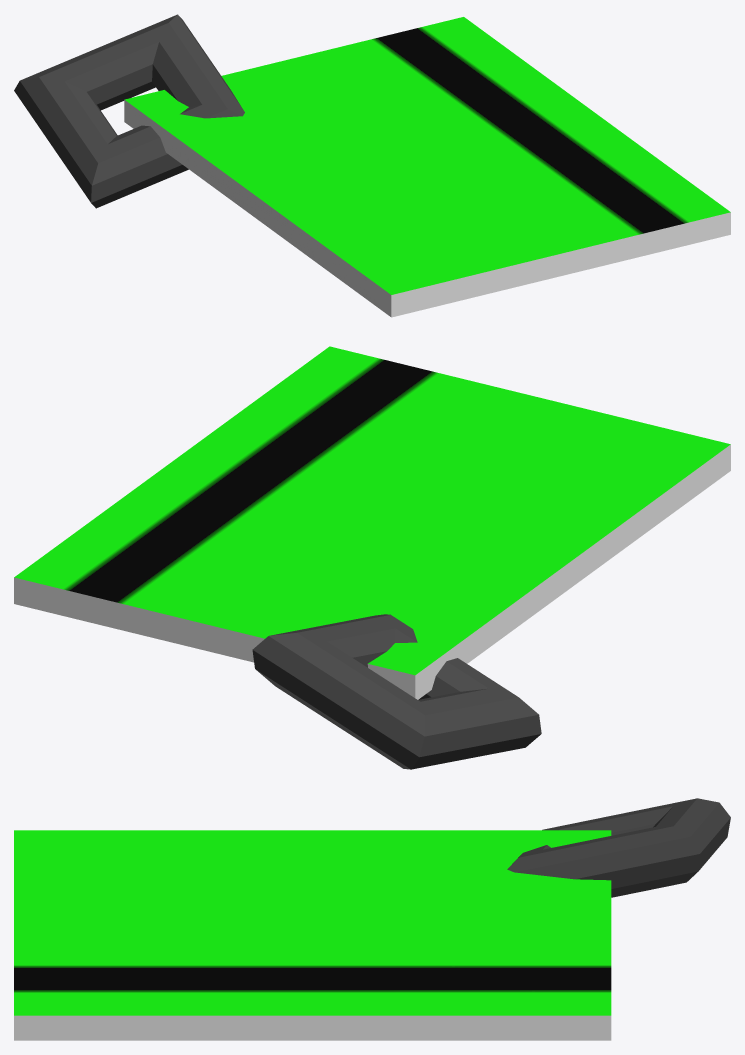
Rendered from Keycard_Green.fbx.
3 renders of one model, top to bottom at view 1: azimuth 30°, elevation 25°; view 2: azimuth 150°, elevation 25°; view 3: azimuth 270°, elevation 25°, orthographic. The views are drawn at different scales.
Visible parts, largest first — view 1: KeyCard_Green; view 2: KeyCard_Green; view 3: KeyCard_Green.
Boxes of the visible parts, <box> form: KeyCard_Green: <box>14,14,730,317</box>; KeyCard_Green: <box>14,346,730,769</box>; KeyCard_Green: <box>14,798,730,1040</box>.
Size of the model in its own units: 2.15 by 0.5527 by 2.91.
1 material, 1 textured.
